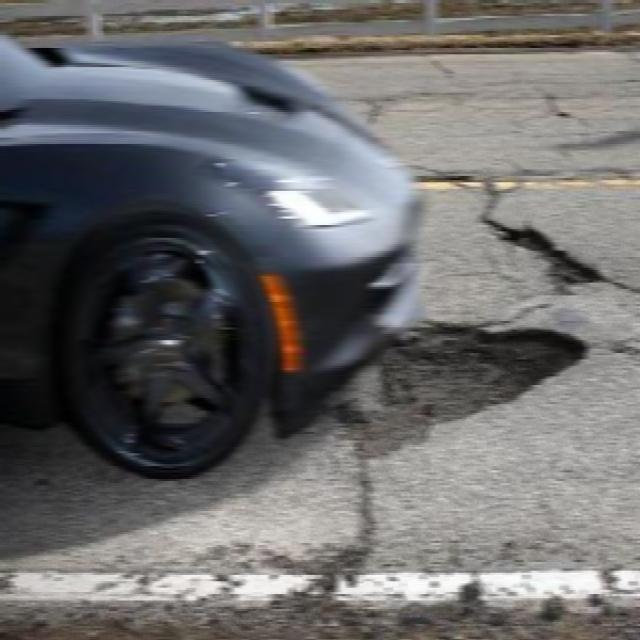Pothole: (333, 317, 579, 461), (458, 202, 600, 296)
